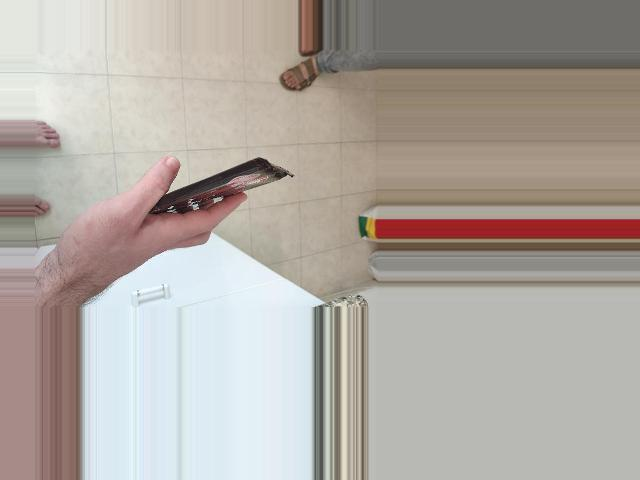chocolate: (133, 147, 291, 230)
